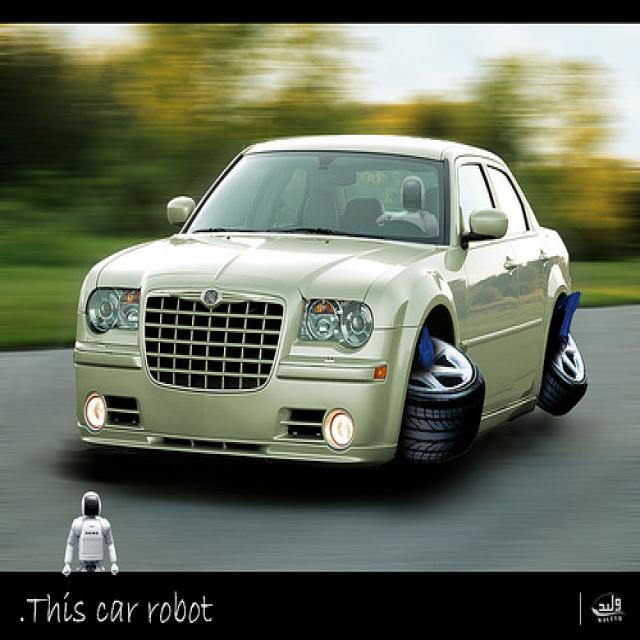Car: (65, 139, 594, 472)
